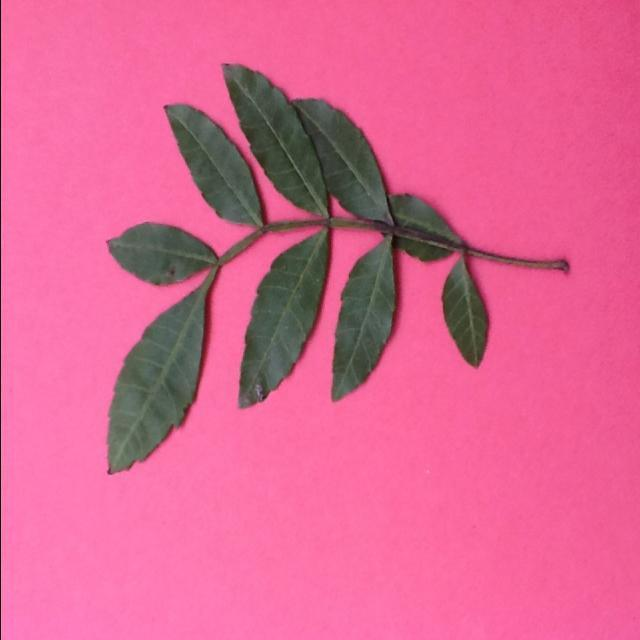foliage: (103, 274, 217, 474), (218, 58, 334, 220), (235, 218, 333, 409), (288, 93, 398, 231), (162, 96, 270, 232), (326, 238, 398, 404), (104, 220, 218, 286), (388, 187, 468, 271), (436, 254, 491, 376)
